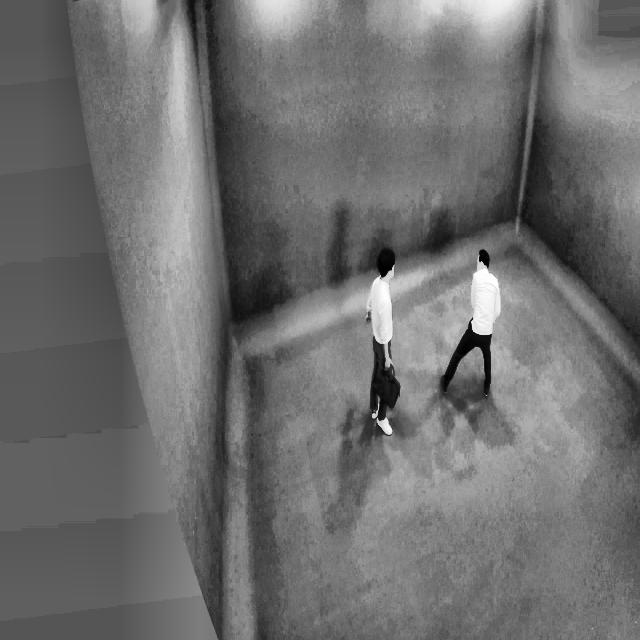assult: (357, 226, 503, 439)
